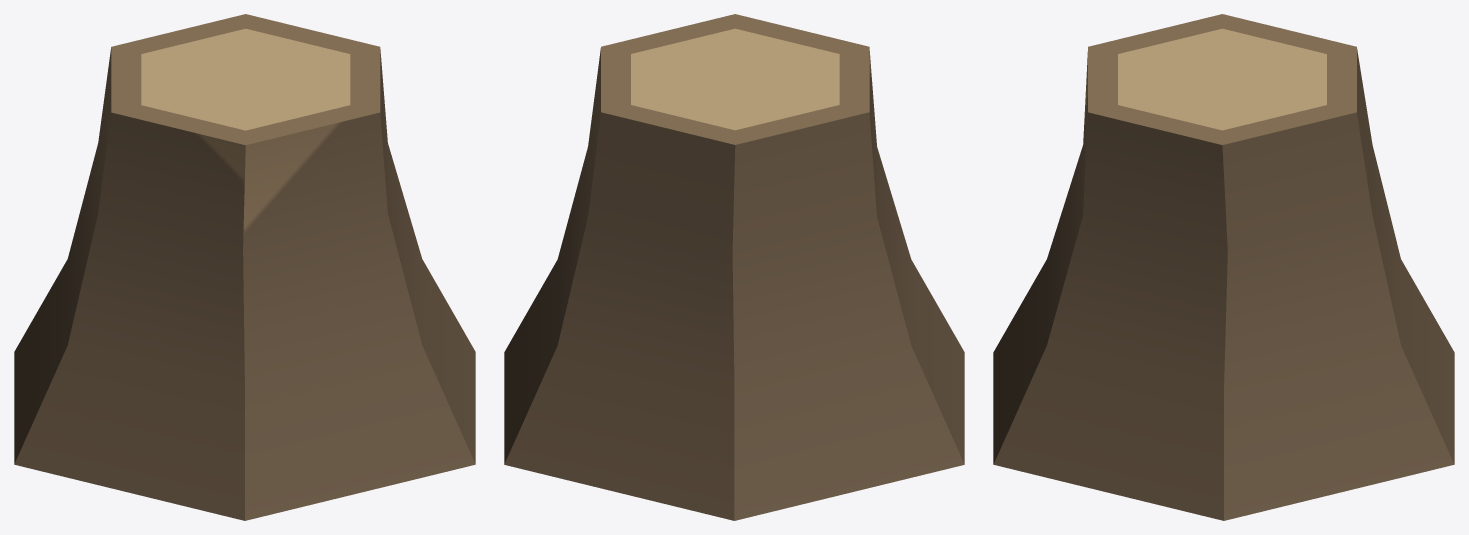
Rendered from Stumps.fbx.
3 renders of one model, left to right at view 1: azimuth 30°, elevation 25°; view 2: azimuth 150°, elevation 25°; view 3: azimuth 270°, elevation 25°, orthographic.
Parts seen in each view (by area): view 1: log_01; view 2: log_01; view 3: log_01.
Boxes of the visible parts, <box> form: log_01: <box>14,14,475,520</box>; log_01: <box>504,14,964,520</box>; log_01: <box>993,14,1454,520</box>.
Bounding box in the file's own units: 83.37 × 58.97 × 72.2.
Materials: 1 (1 with a texture image).
